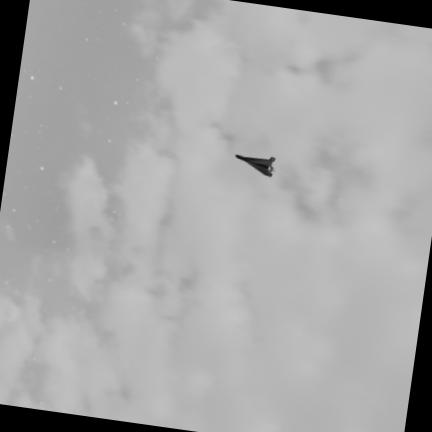Shahed: (235, 155, 274, 175)
